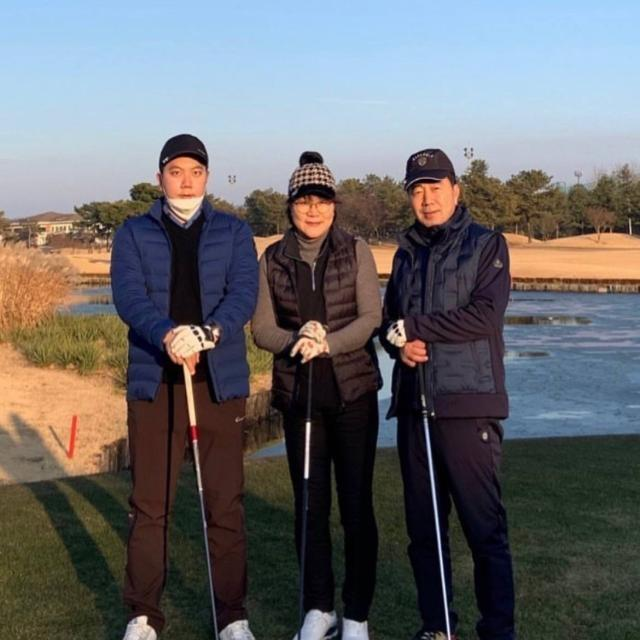hairnet: (164, 142, 209, 210)
